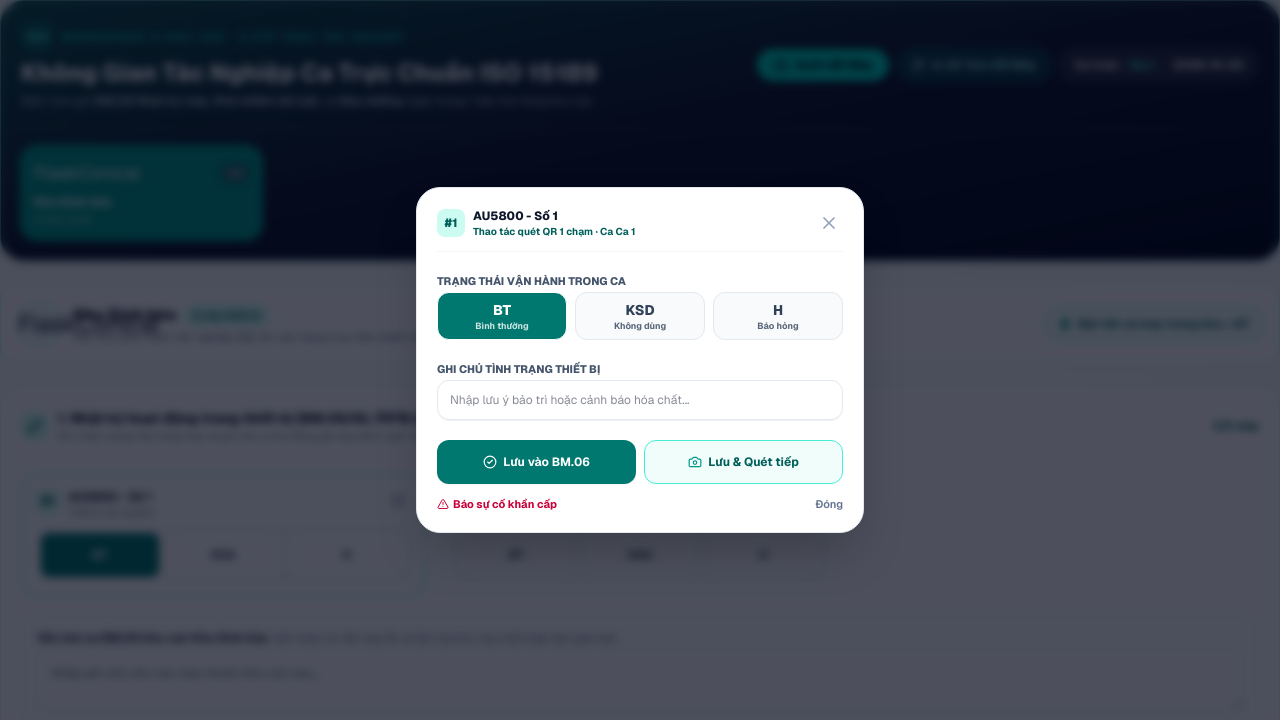
TASK 01: QR BM06 Concurrency, Offline Queue, and UI Truthfulness › Requirement 3: Displays 'Chưa đồng bộ' and NEVER claims success when save fails or goes offline
This screenshot has width=1280, height=720.
Click the button "Lưu vào BM.06". click: (536, 462)
box: [437,440,636,484]
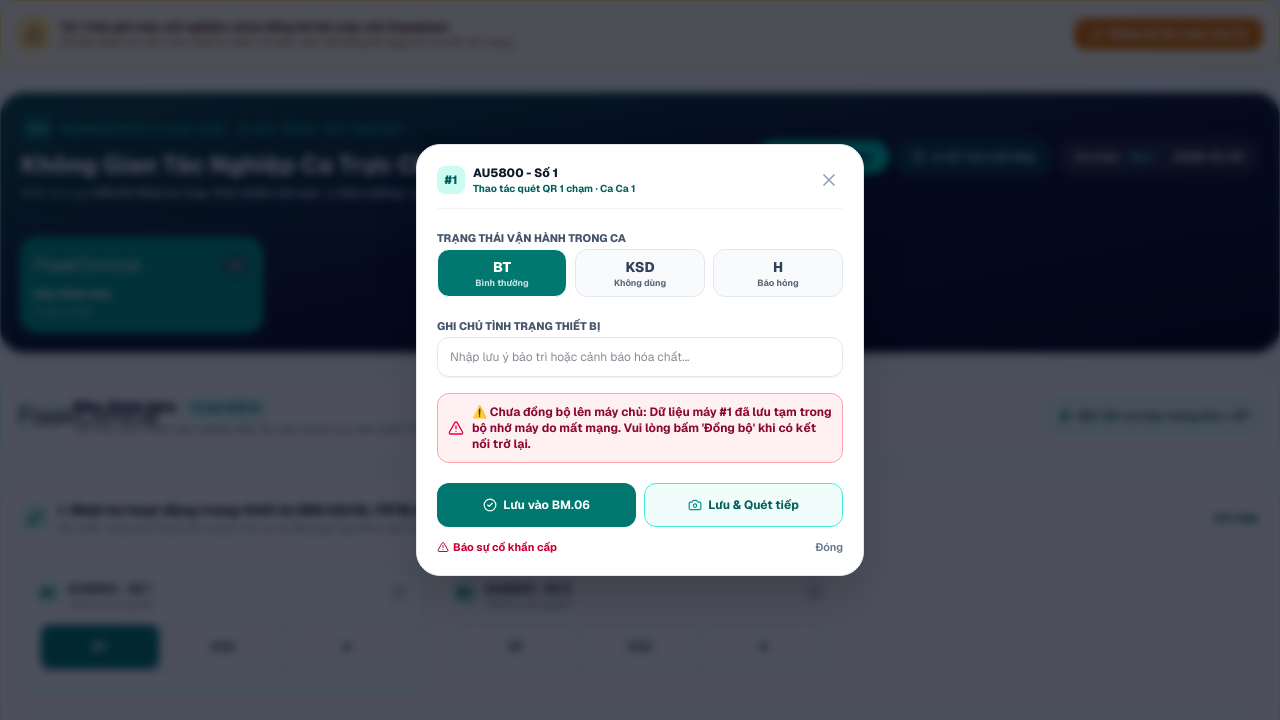
Expected: the text "⚠️ Chưa đồng bộ lên máy chủ" is shown, [472,404,832,452]
